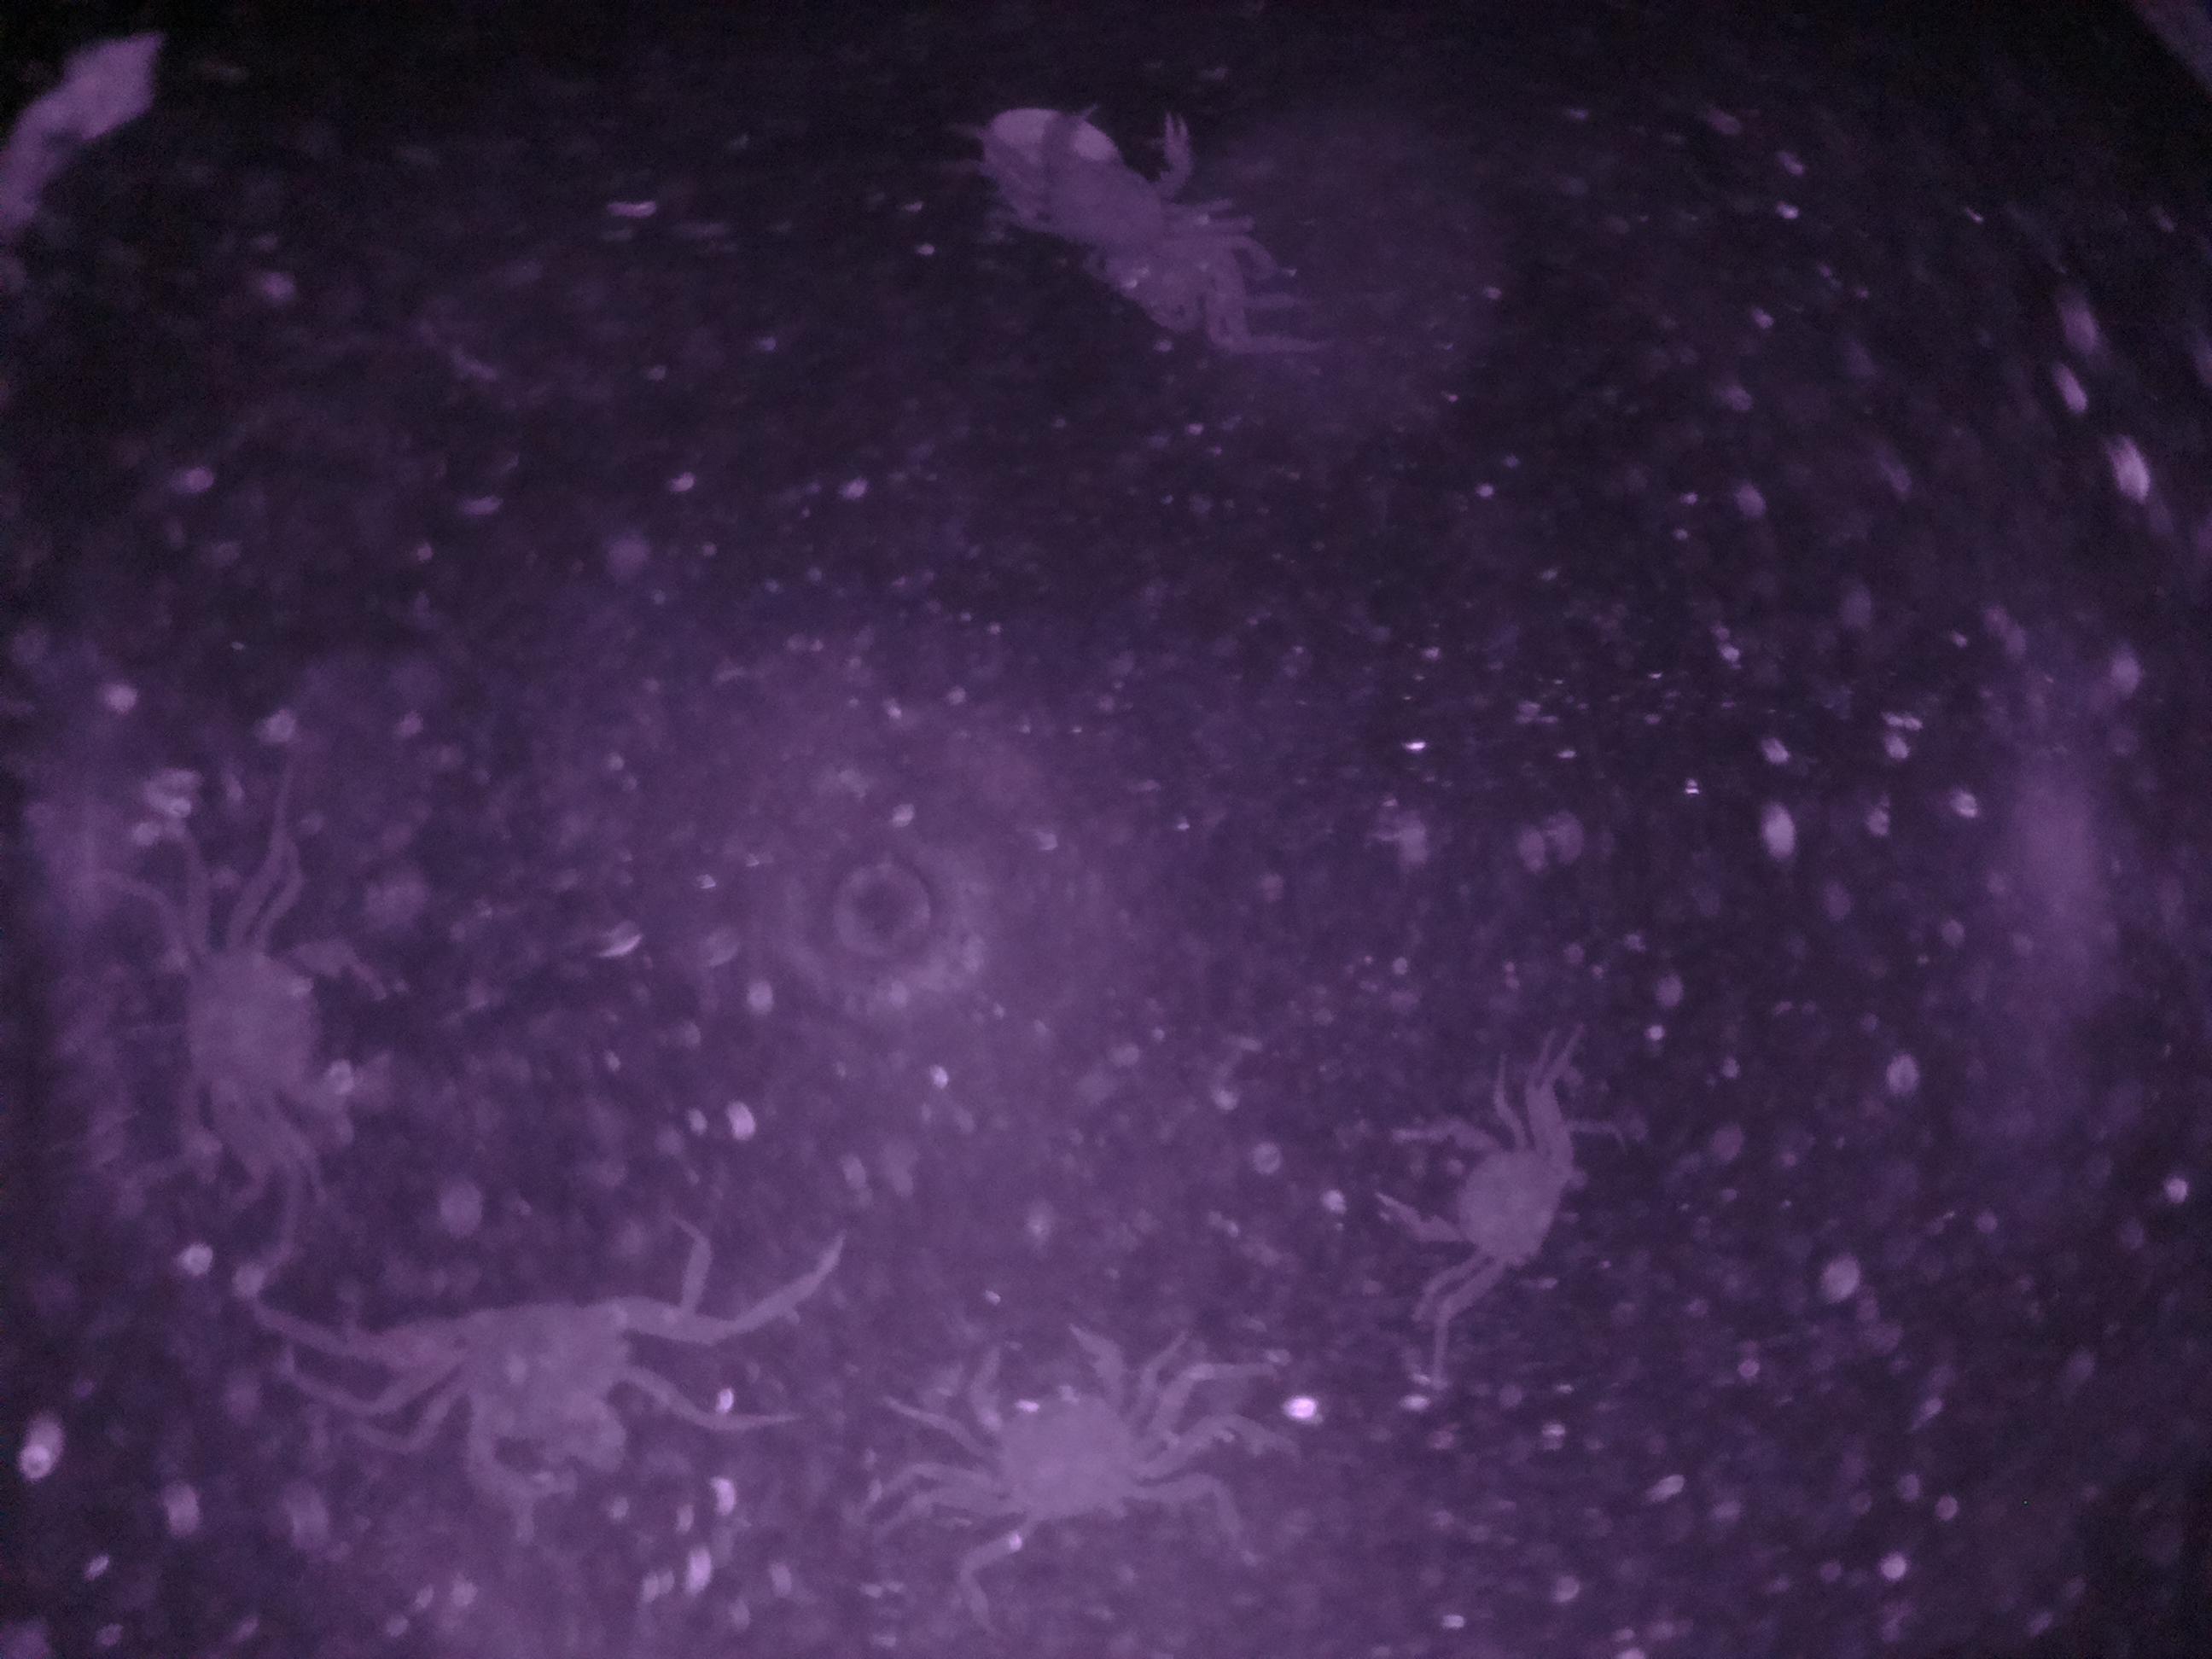Crab: (883, 1309, 1190, 1558), (1343, 1096, 1639, 1307)
